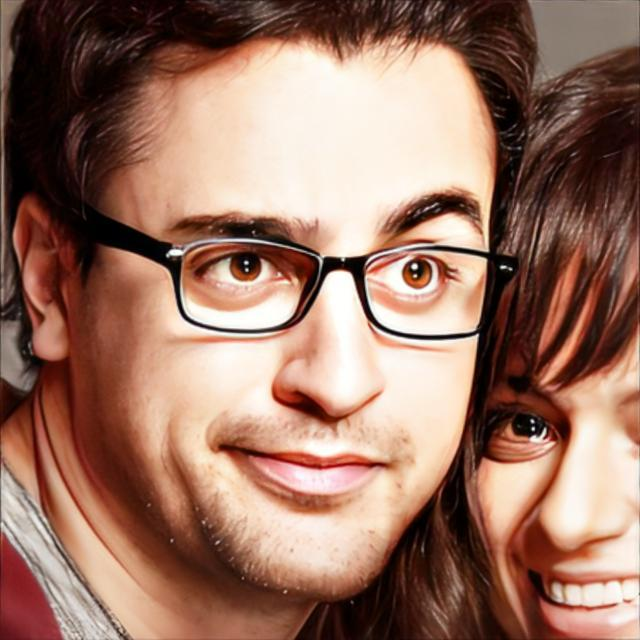content: (77, 34, 492, 600)
happy: (472, 245, 640, 640)
